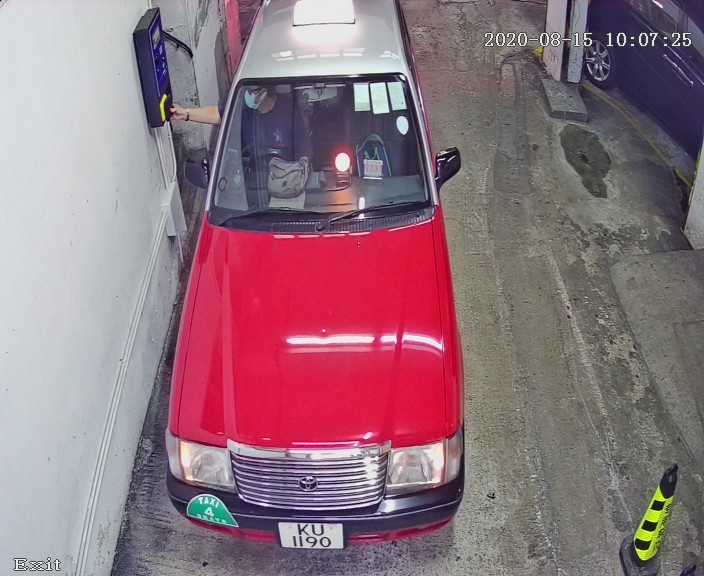taxi: (162, 1, 475, 551)
taxi_mark: (181, 486, 246, 534)
